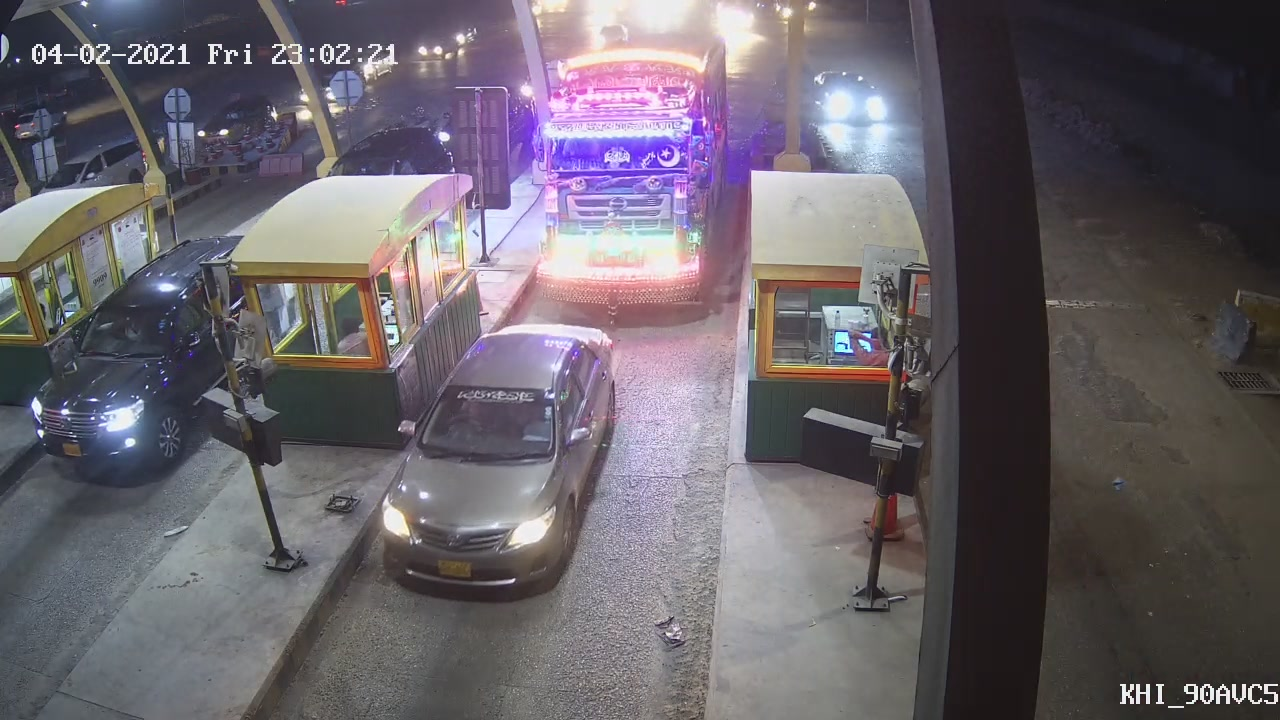F1: (378, 321, 618, 598)
F5: (533, 5, 730, 318)
